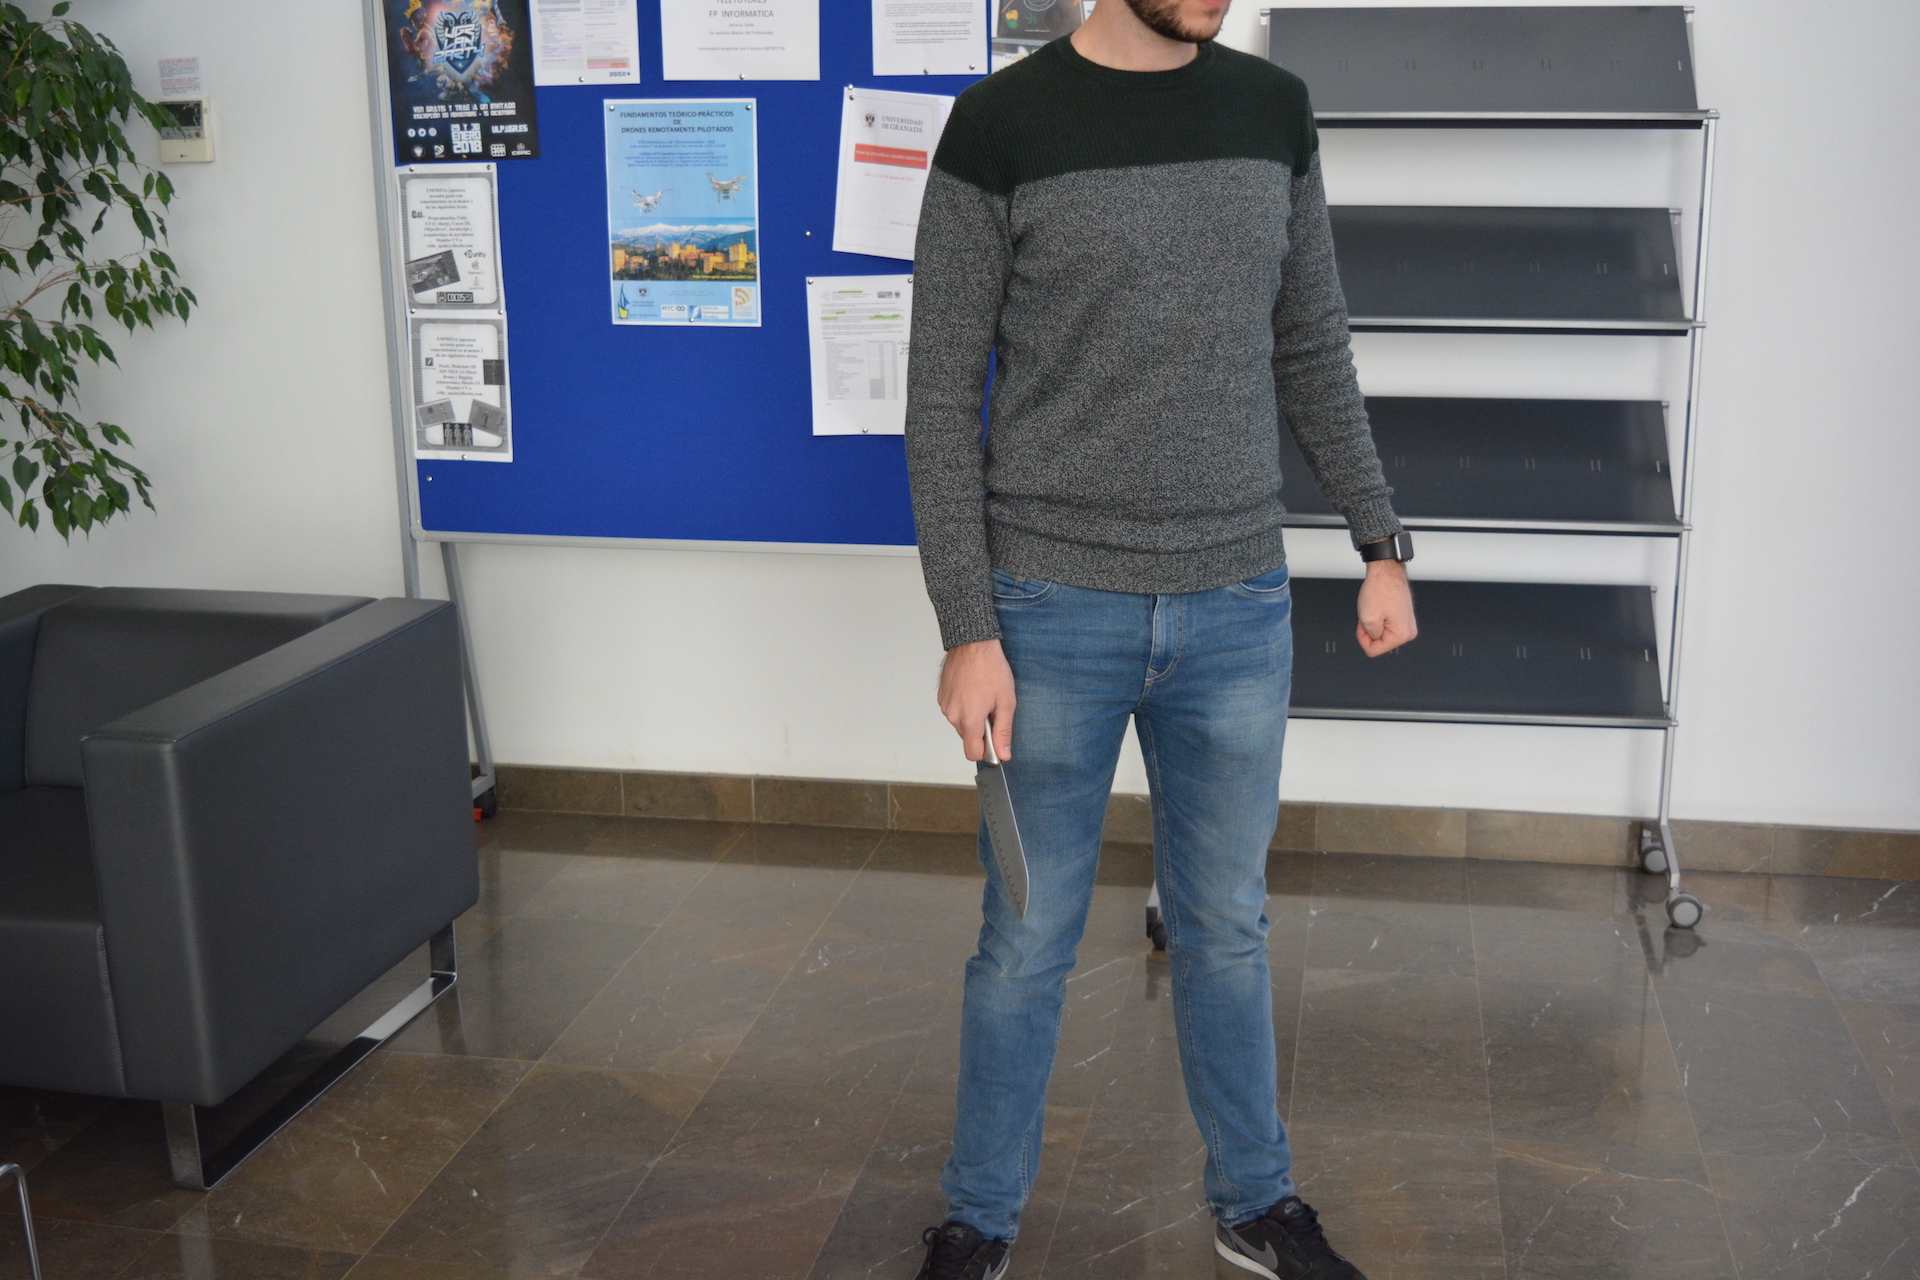knife: (960, 709, 1040, 934)
